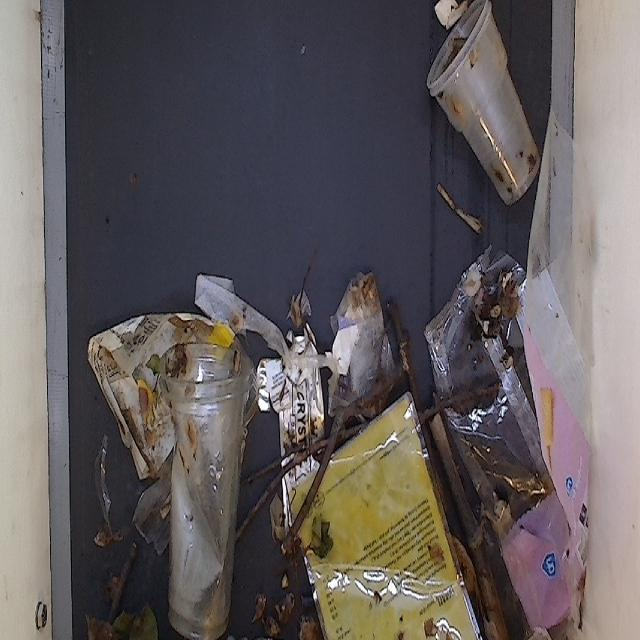food_wrapping: (279, 418, 498, 640), (523, 223, 616, 640), (70, 302, 228, 474), (257, 324, 331, 544)
plastic_cups: (418, 0, 552, 216), (162, 333, 250, 640)
plastic_films: (420, 248, 587, 556), (334, 265, 404, 434)
